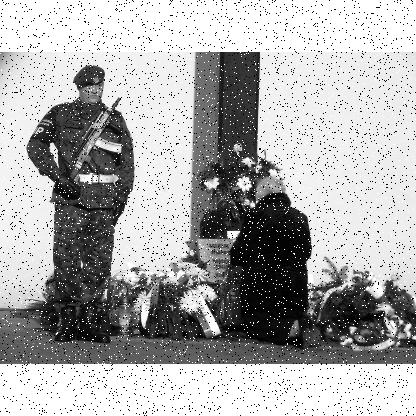gun: (39, 112, 129, 210)
